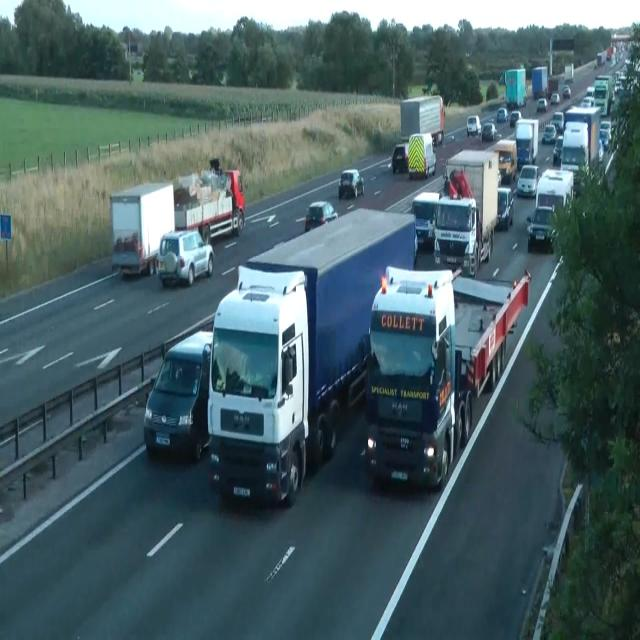bus: (526, 205, 556, 252), (304, 200, 338, 232), (516, 165, 540, 198), (338, 168, 364, 198), (392, 144, 408, 173), (481, 122, 497, 142), (550, 111, 564, 133), (541, 124, 557, 143), (467, 115, 481, 136), (553, 136, 563, 165), (599, 127, 610, 151), (510, 110, 522, 127), (496, 106, 508, 122), (580, 96, 594, 108), (598, 137, 604, 163), (614, 79, 624, 94), (537, 97, 547, 111), (550, 91, 560, 105), (563, 85, 571, 98), (496, 170, 502, 186), (586, 86, 594, 97)
jeep: (143, 329, 213, 461), (156, 228, 214, 286), (411, 191, 439, 249), (496, 186, 514, 230)
minibus: (206, 206, 418, 507), (364, 264, 532, 492), (432, 148, 500, 276), (173, 158, 245, 245), (109, 182, 175, 276), (527, 167, 575, 253), (560, 106, 602, 192), (400, 94, 445, 146), (485, 139, 517, 182), (408, 132, 436, 178), (515, 118, 539, 168), (504, 68, 526, 108), (532, 65, 548, 99), (564, 63, 574, 82), (596, 50, 606, 66), (606, 46, 613, 60)
